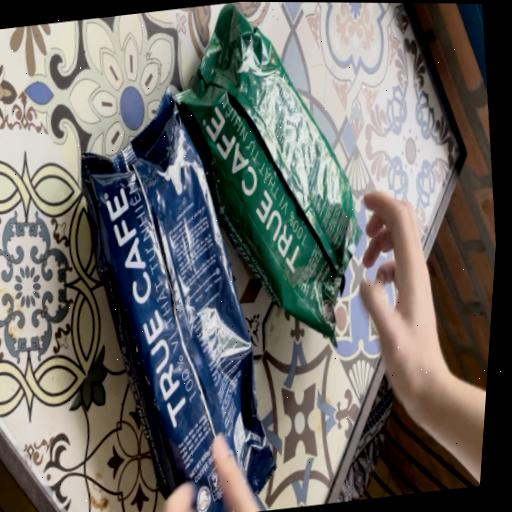cafe_hat: (81, 91, 275, 512)
cafe_xay: (174, 4, 361, 345)
